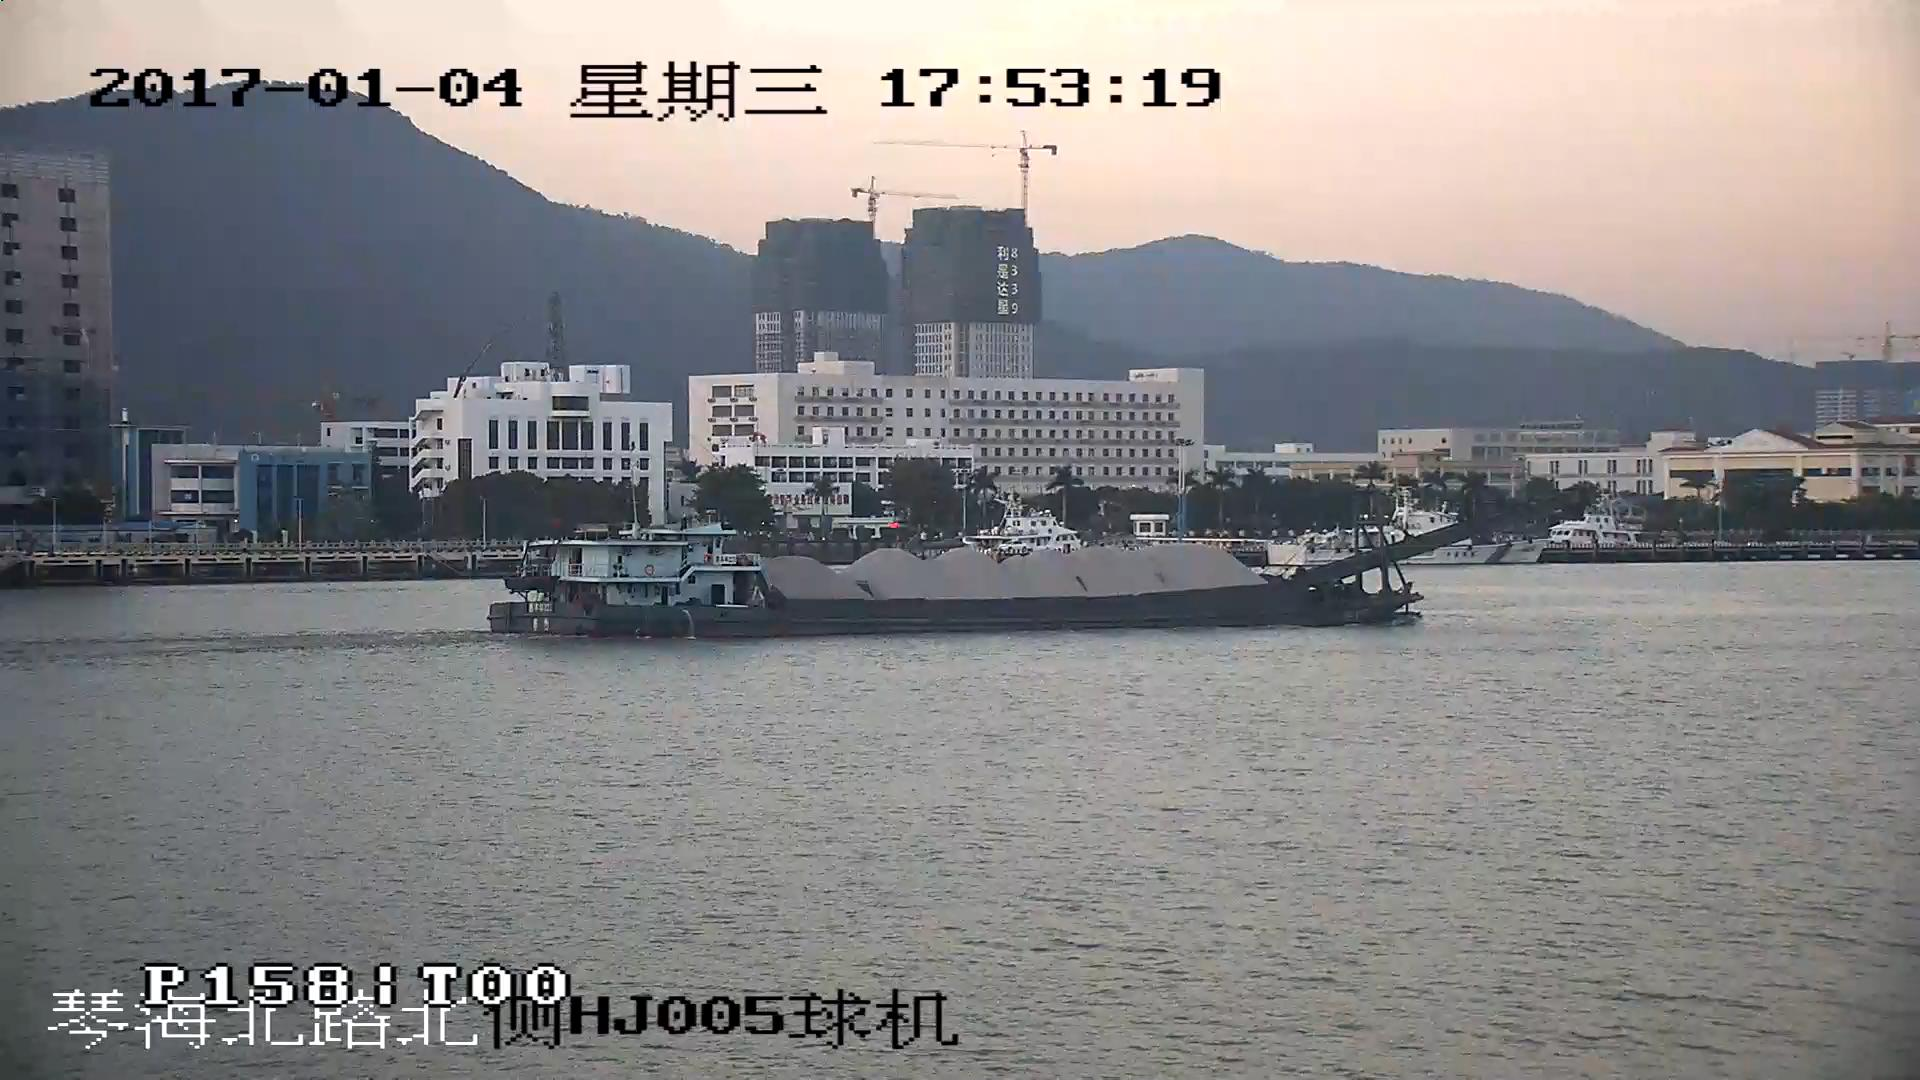ore carrier: (490, 490, 1556, 638)
